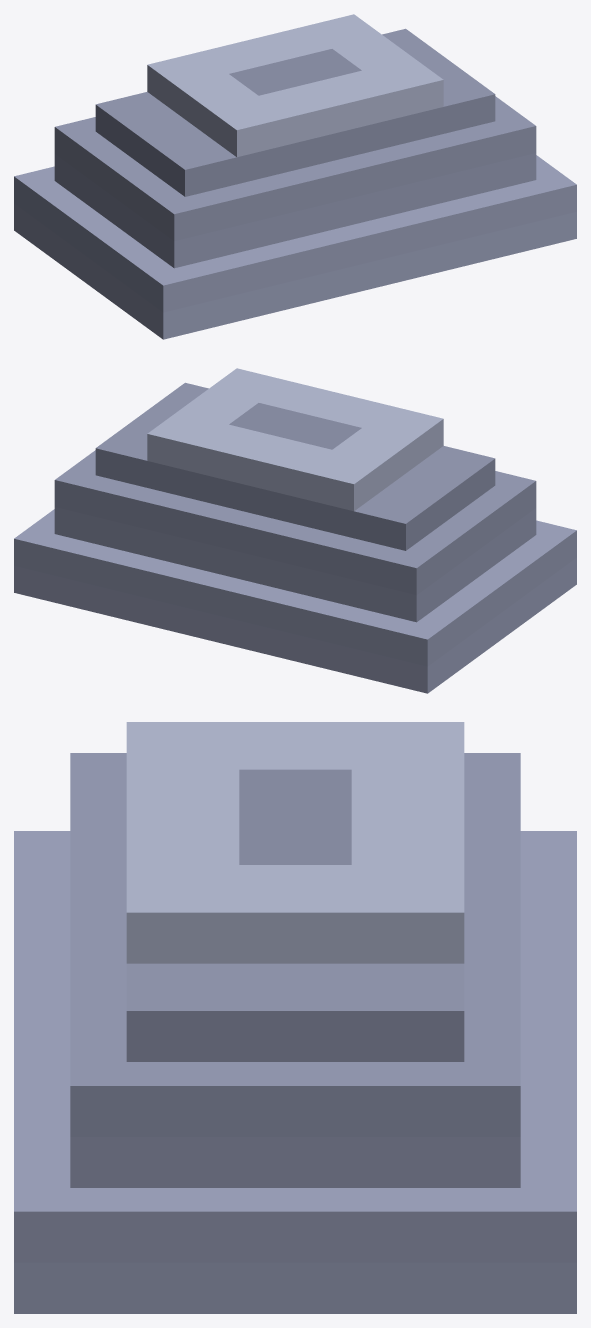
The model's file is mat_starsteel.glb.
3 renders of one model, top to bottom at view 1: azimuth 30°, elevation 25°; view 2: azimuth 150°, elevation 25°; view 3: azimuth 270°, elevation 25°, orthographic. The views are drawn at different scales.
Parts seen in each view (by area): view 1: mat_starsteel; view 2: mat_starsteel; view 3: mat_starsteel.
Boxes of the visible parts, <box> form: mat_starsteel: <box>14,14,576,339</box>; mat_starsteel: <box>14,368,576,693</box>; mat_starsteel: <box>14,722,576,1313</box>.
Bounding box in the file's own units: 0.192 × 0.072 × 0.12.
